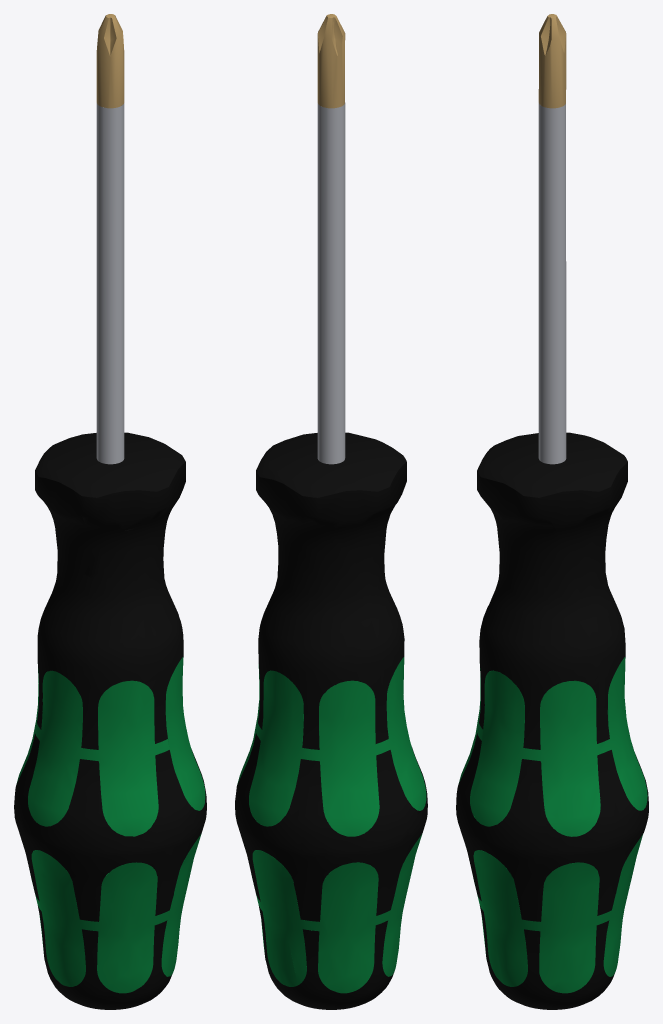
File: phillips_screwdriver_80mm.dae
The picture shows the model from 3 angles, left to right: view 1: azimuth 30°, elevation 25°; view 2: azimuth 150°, elevation 25°; view 3: azimuth 270°, elevation 25°; orthographic projection.
Parts seen in each view (by area): view 1: node_g0_black, node_g1_wera_green, node_g2_chrome, node_g3_brass; view 2: node_g0_black, node_g1_wera_green, node_g2_chrome, node_g3_brass; view 3: node_g0_black, node_g1_wera_green, node_g2_chrome, node_g3_brass.
Boxes of the visible parts, x1,y1,x2,y2 form: node_g0_black: (14,432,206,1009); node_g1_wera_green: (16,657,205,993); node_g2_chrome: (96,103,124,464); node_g3_brass: (96,14,124,108); node_g0_black: (235,432,427,1009); node_g1_wera_green: (237,657,426,993); node_g2_chrome: (317,102,345,464); node_g3_brass: (317,14,345,108); node_g0_black: (456,432,648,1009); node_g1_wera_green: (458,657,647,993); node_g2_chrome: (538,103,566,464); node_g3_brass: (538,14,566,108).
Size of the model in its own units: 0.0316 by 0.0316 by 0.1778.
